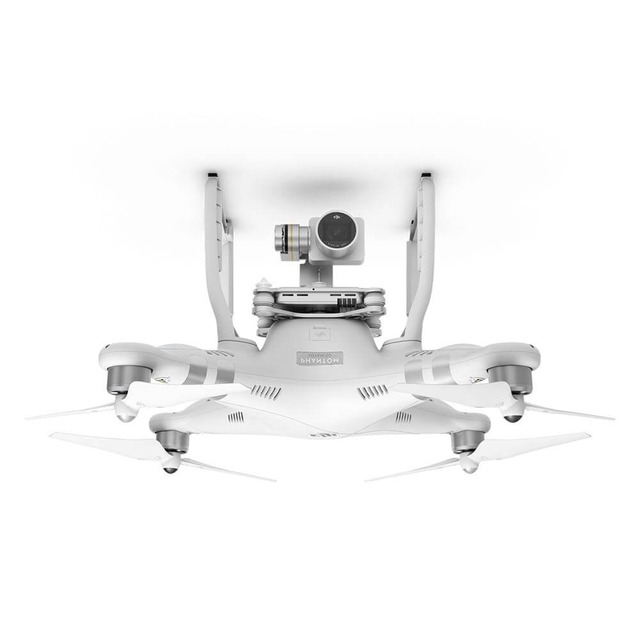drone: (35, 166, 616, 493)
